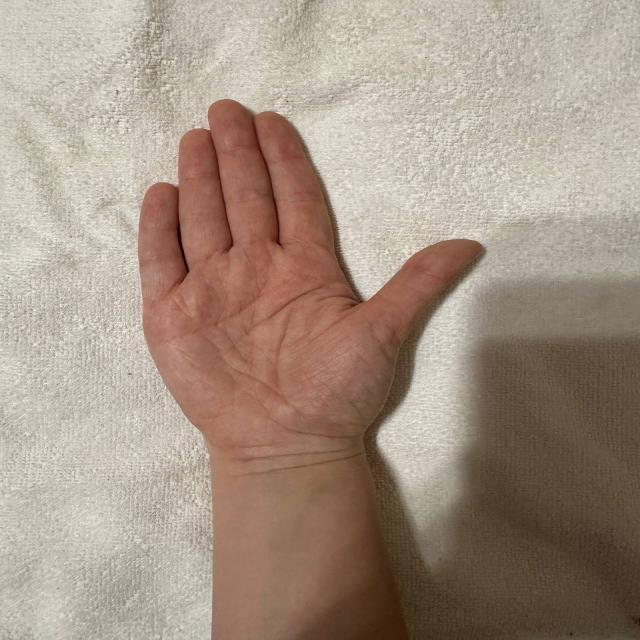v: (71, 85, 520, 438)
